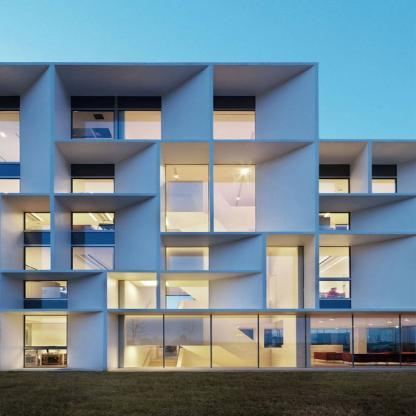Building Outline: (0, 61, 416, 371)
Facade: (0, 61, 415, 372)
Floor Slab: (0, 97, 255, 109), (0, 196, 159, 209), (0, 232, 159, 245), (0, 164, 159, 176), (264, 231, 397, 244), (288, 164, 396, 177), (0, 300, 103, 311), (311, 300, 351, 311)
Glass Wall: (118, 315, 416, 368), (214, 165, 255, 232), (167, 165, 208, 232), (266, 247, 303, 308), (25, 316, 67, 367)
Window: (72, 110, 161, 145), (214, 110, 255, 145), (165, 281, 210, 310), (120, 281, 157, 310), (166, 247, 209, 271), (0, 110, 19, 162), (319, 247, 350, 278), (73, 248, 114, 271), (73, 213, 114, 231), (25, 281, 67, 298), (73, 179, 114, 196), (25, 248, 55, 271), (25, 213, 56, 231), (319, 281, 350, 299), (367, 179, 397, 196), (319, 213, 349, 230), (319, 179, 349, 196), (0, 179, 20, 196)
